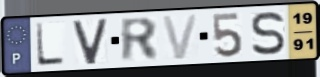5: (211, 11, 245, 59)
L: (34, 21, 67, 67)
R: (118, 16, 161, 64)
S: (250, 9, 287, 57)
V: (160, 13, 201, 62), (70, 17, 110, 67)
